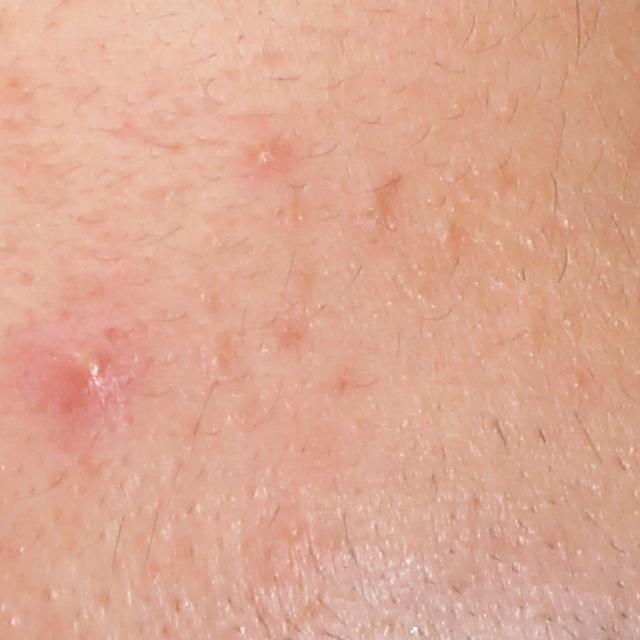comedo: (428, 216, 466, 253), (284, 517, 305, 540)
pustule: (24, 320, 140, 426)
